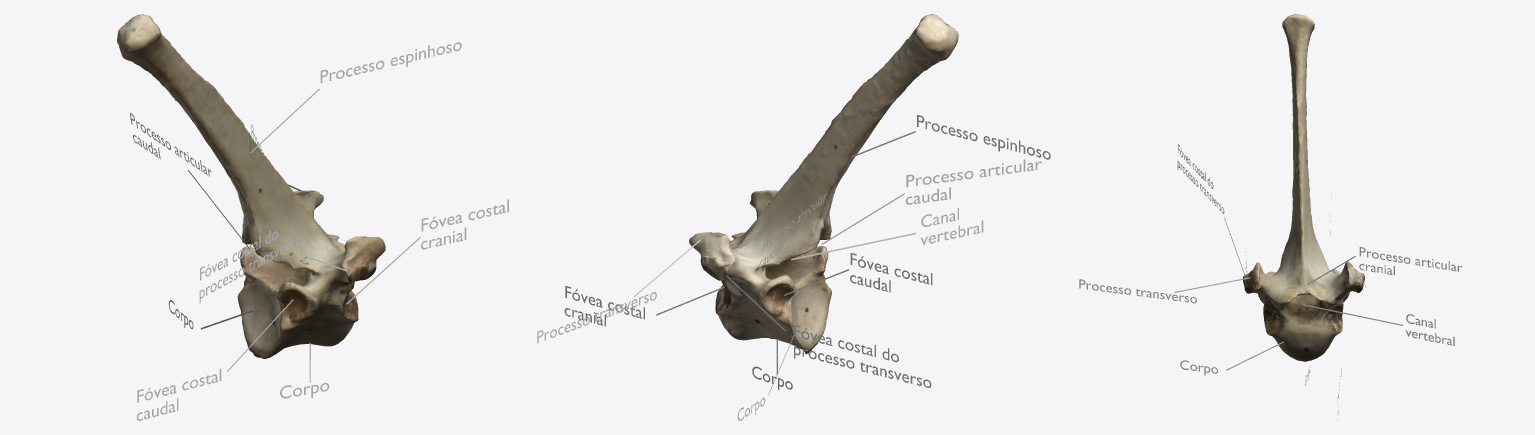
Rendered from 9ª_Vértebra_Torácica.glb.
The picture shows the model from 3 angles, left to right: view 1: azimuth 30°, elevation 25°; view 2: azimuth 150°, elevation 25°; view 3: azimuth 270°, elevation 25°; orthographic projection. The views are drawn at different scales.
Visible parts, largest first — view 1: 3DModel_LowPoly.001, Texto.026, Texto.004, Texto.024, Texto.022, Texto.035; view 2: 3DModel_LowPoly.001, Texto.006, Texto.077, Texto.002, Texto.017, Texto.013, Texto.019, Texto.015; view 3: 3DModel_LowPoly.001, Texto.033, Texto.003, Texto.026.
Boxes of the visible parts, x1=… form: 3DModel_LowPoly.001: x1=117, y1=14, x2=385, y2=358; Texto.026: x1=199, y1=230, x2=301, y2=303; Texto.004: x1=320, y1=42, x2=461, y2=82; Texto.024: x1=421, y1=199, x2=508, y2=249; Texto.022: x1=136, y1=368, x2=221, y2=420; Texto.035: x1=130, y1=113, x2=211, y2=176; 3DModel_LowPoly.001: x1=689, y1=14, x2=958, y2=354; Texto.006: x1=794, y1=324, x2=931, y2=387; Texto.077: x1=905, y1=159, x2=1041, y2=204; Texto.002: x1=917, y1=114, x2=1050, y2=159; Texto.017: x1=850, y1=253, x2=932, y2=292; Texto.013: x1=564, y1=285, x2=644, y2=326; Texto.019: x1=537, y1=292, x2=656, y2=343; Texto.015: x1=920, y1=208, x2=983, y2=245; 3DModel_LowPoly.001: x1=1243, y1=14, x2=1364, y2=361; Texto.033: x1=1359, y1=247, x2=1461, y2=275; Texto.003: x1=1079, y1=279, x2=1196, y2=303; Texto.026: x1=1177, y1=144, x2=1224, y2=213.
Size of the model in its own units: 2.96 by 2.49 by 3.17.
1 material, 1 textured.
